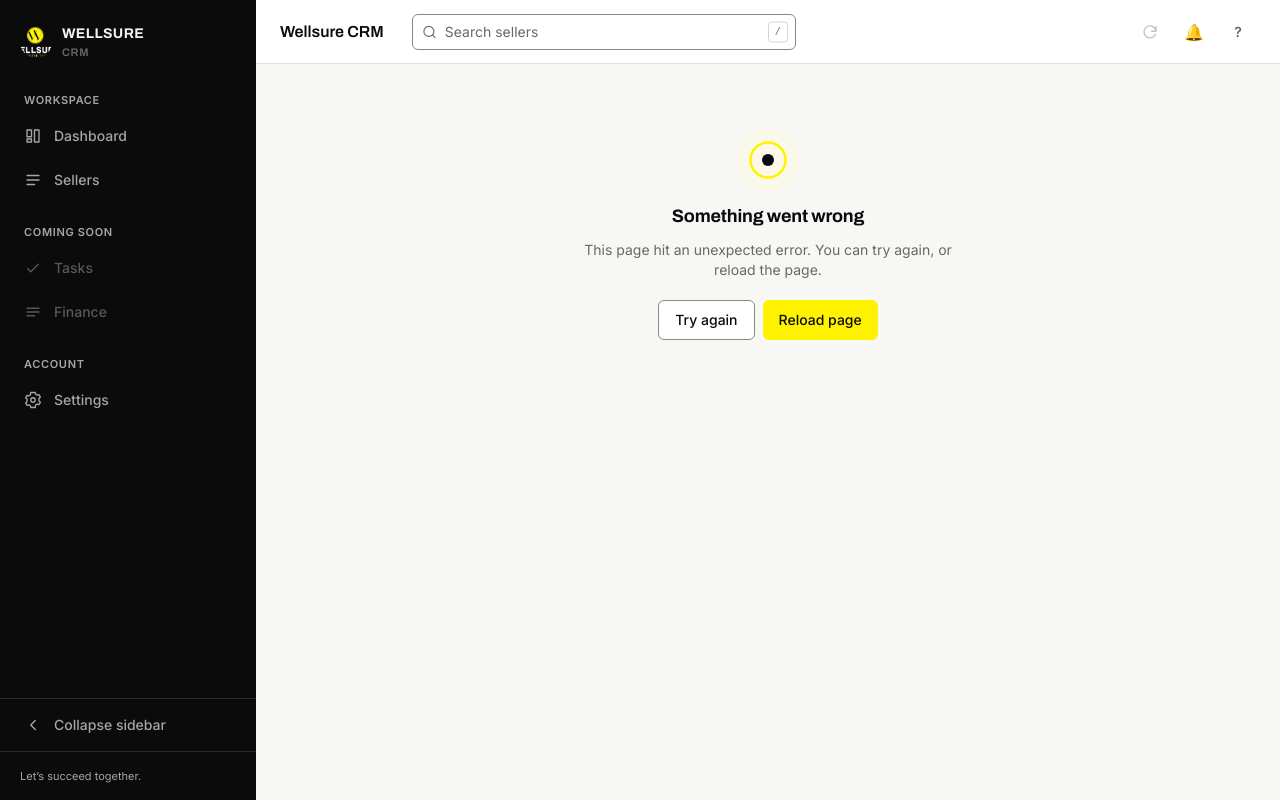
Scenario: app shell › recovers on "Try again" once the underlying error condition clears
The image size is (1280, 800).
Check: the heading "Something went wrong" is shown, box [672, 204, 864, 228]
Click the button "Try again" at (706, 320), box [658, 300, 755, 340]
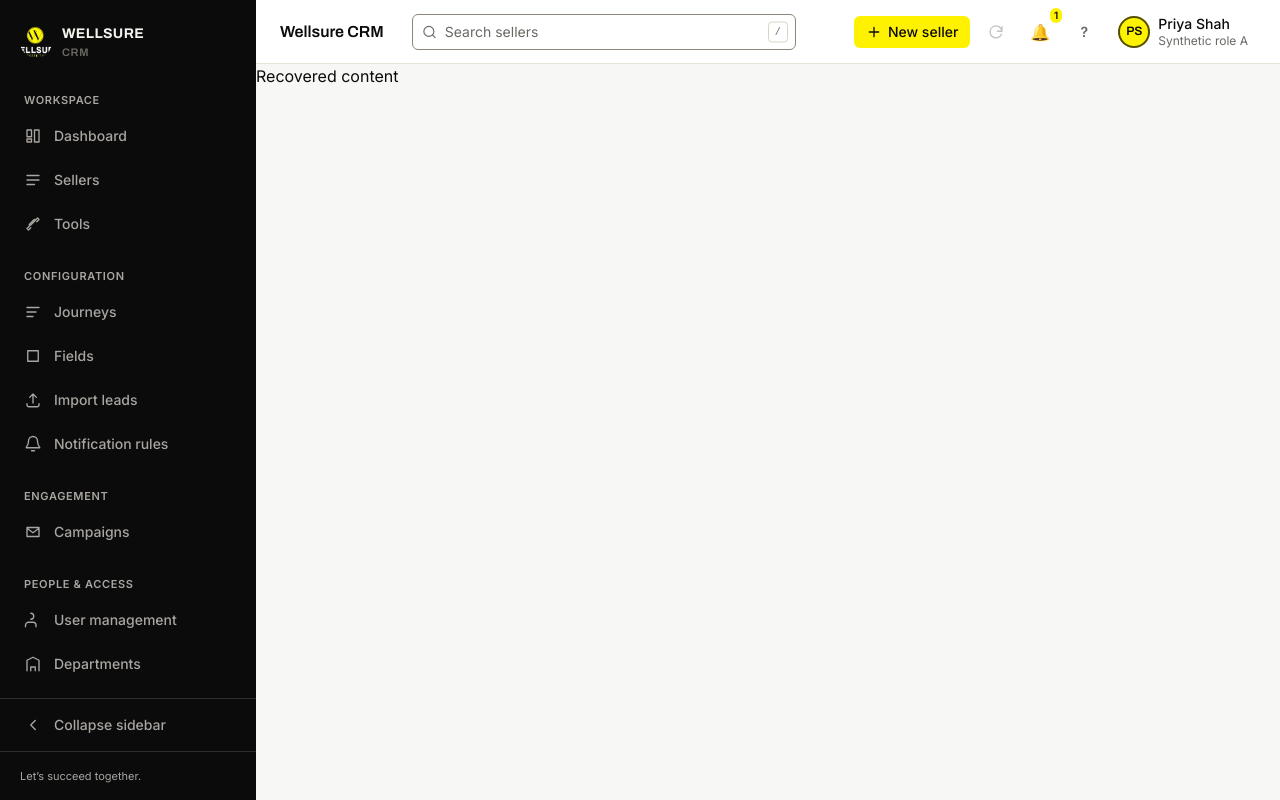
Check: the text "Recovered content" is shown, box [256, 66, 398, 86]
